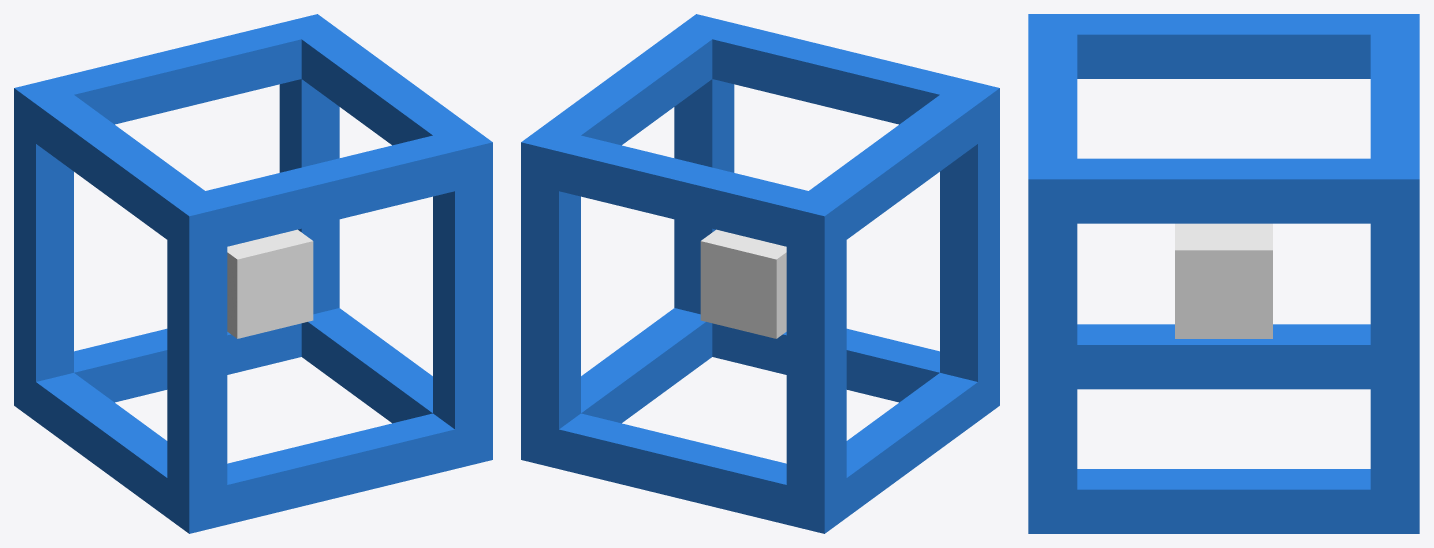
File: cube-checkpoint.glb
3 views of the same model, side by side, from view 1: azimuth 30°, elevation 25°; view 2: azimuth 150°, elevation 25°; view 3: azimuth 270°, elevation 25° (orthographic). The views are drawn at different scales.
Visible parts, largest first — view 1: cube-checkpoint; view 2: cube-checkpoint; view 3: cube-checkpoint.
Boxes of the visible parts, <box> form: cube-checkpoint: <box>14,14,492,533</box>; cube-checkpoint: <box>521,14,999,533</box>; cube-checkpoint: <box>1028,14,1419,533</box>.
Size of the model in its own units: 1 by 1 by 1.
Materials: 1 (1 with a texture image).
